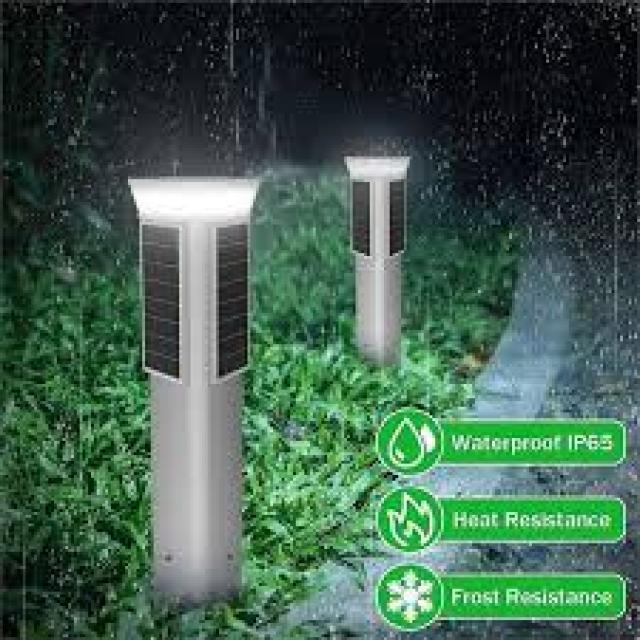bollard: (116, 169, 274, 617), (335, 148, 423, 368)
